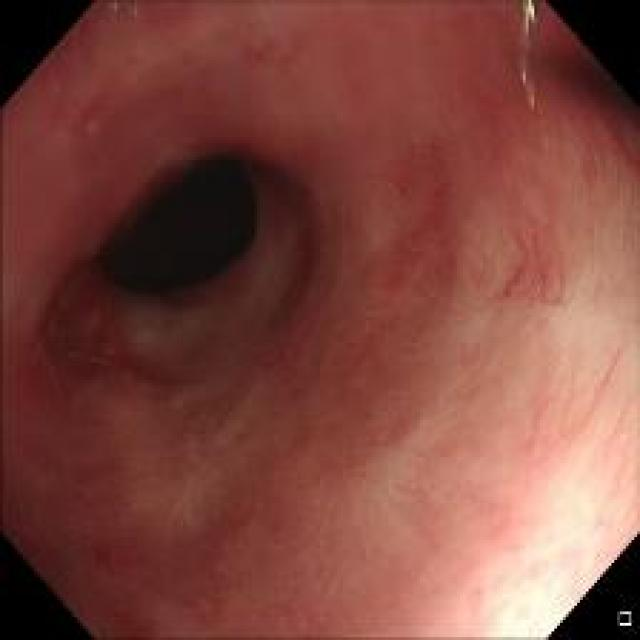blur: (248, 379, 599, 615)
color misalignment: (511, 2, 539, 110)
contrast: (81, 139, 265, 315)
saturation: (489, 568, 572, 635)
